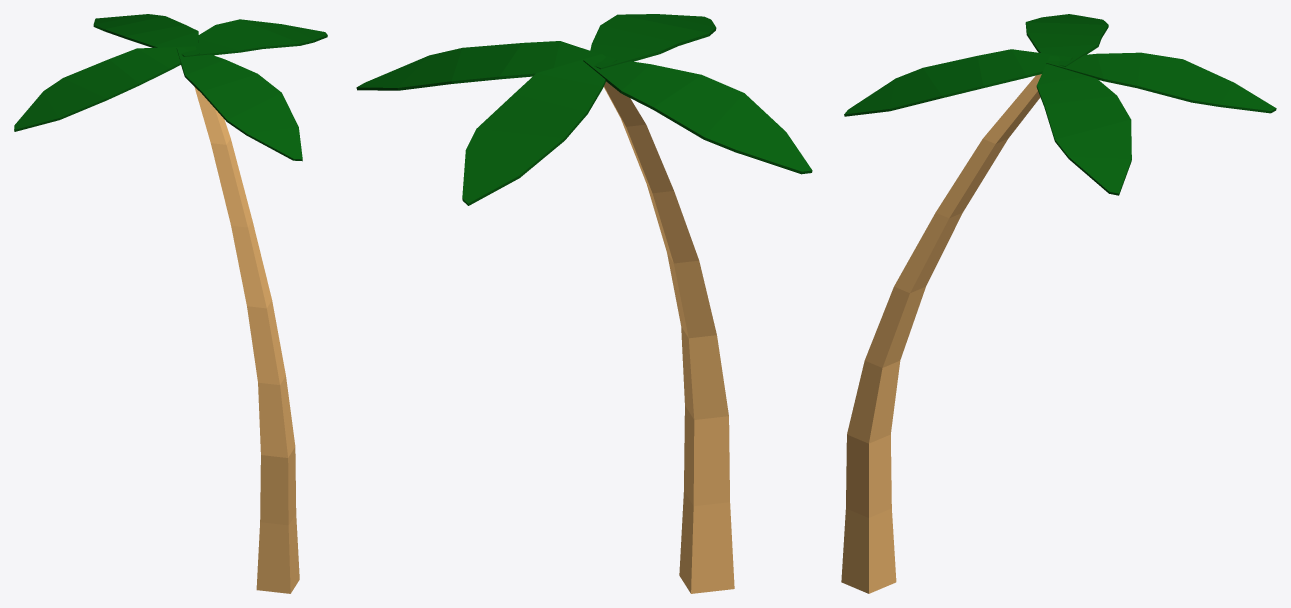
Rendered from CoconutTree3.fbx.
3 renders of one model, left to right at view 1: azimuth 30°, elevation 25°; view 2: azimuth 150°, elevation 25°; view 3: azimuth 270°, elevation 25°, orthographic. The views are drawn at different scales.
Parts seen in each view (by area): view 1: Circle.005; view 2: Circle.005; view 3: Circle.005.
Part boxes in pixels (box(x1,y1,x2,y2)): Circle.005: box(14, 14, 327, 593); Circle.005: box(356, 14, 812, 593); Circle.005: box(841, 14, 1276, 593).
Bounding box in the file's own units: 1381 × 1864 × 1413.
